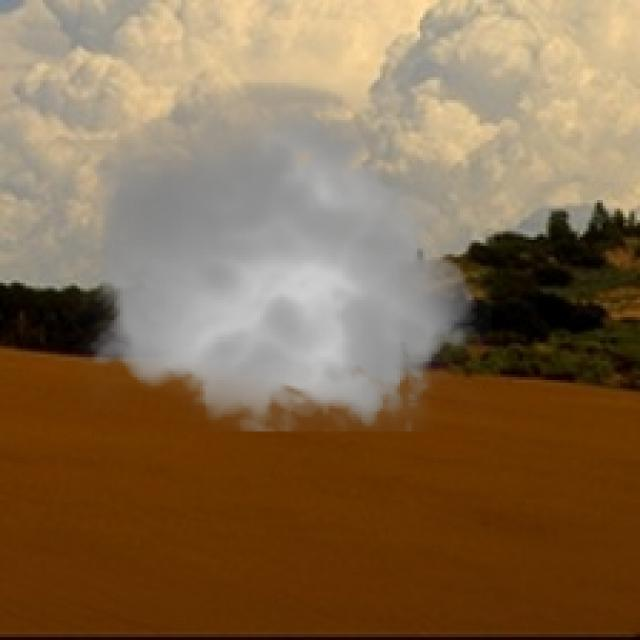Smoke: (71, 69, 492, 448)
